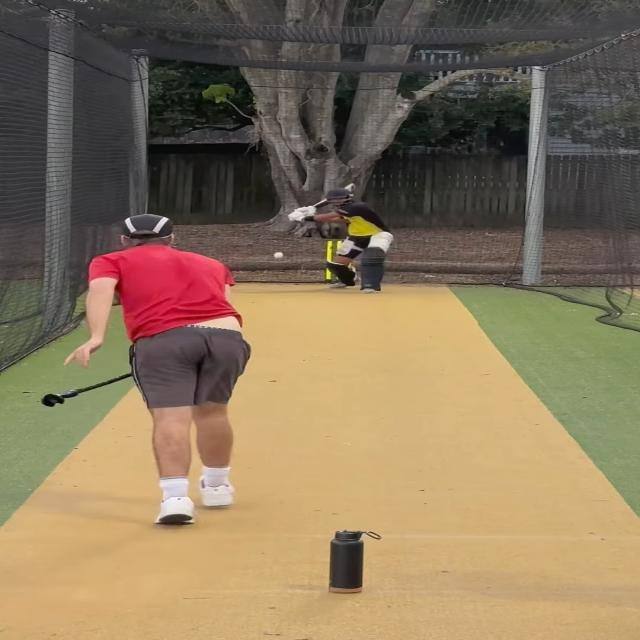Cricket ball: (272, 250, 286, 260)
